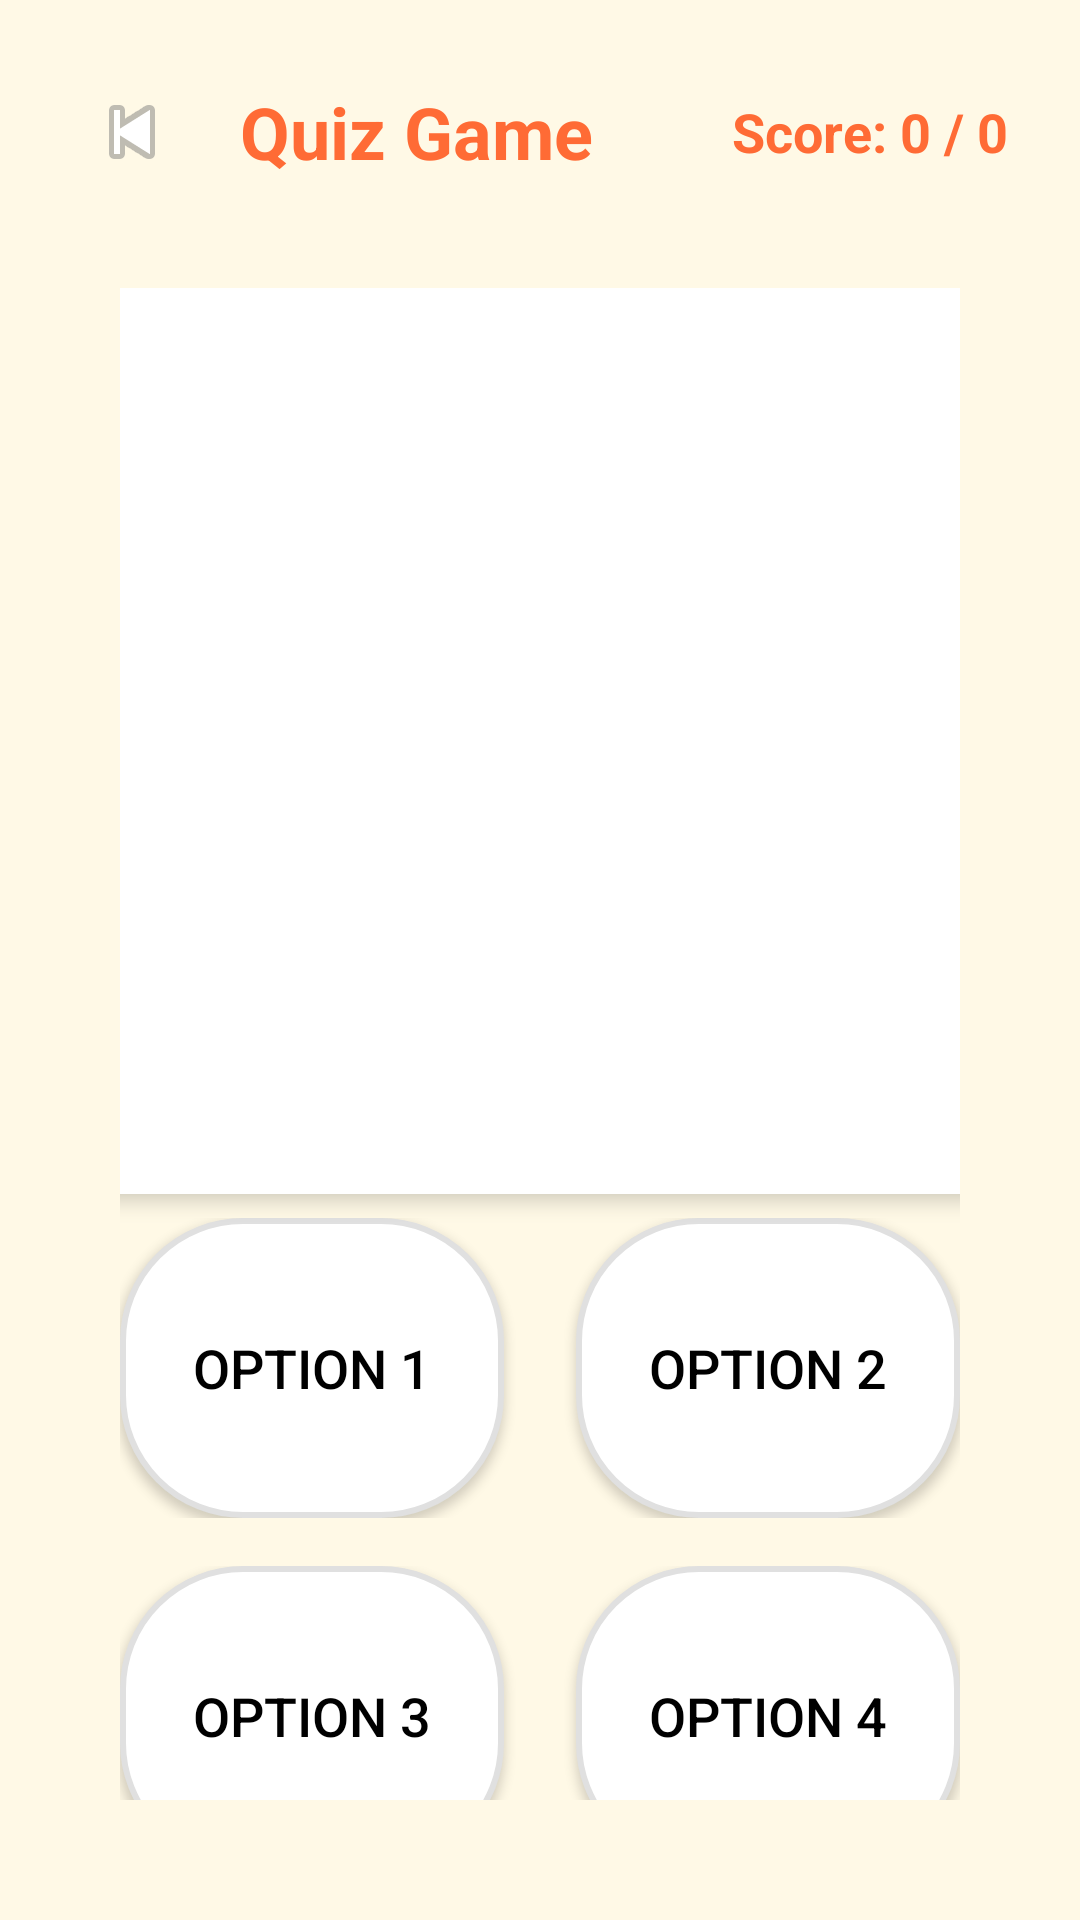

Where to tap for icons on this 1080×1920 app screen, as [x,y]:
previous: [132,132]
